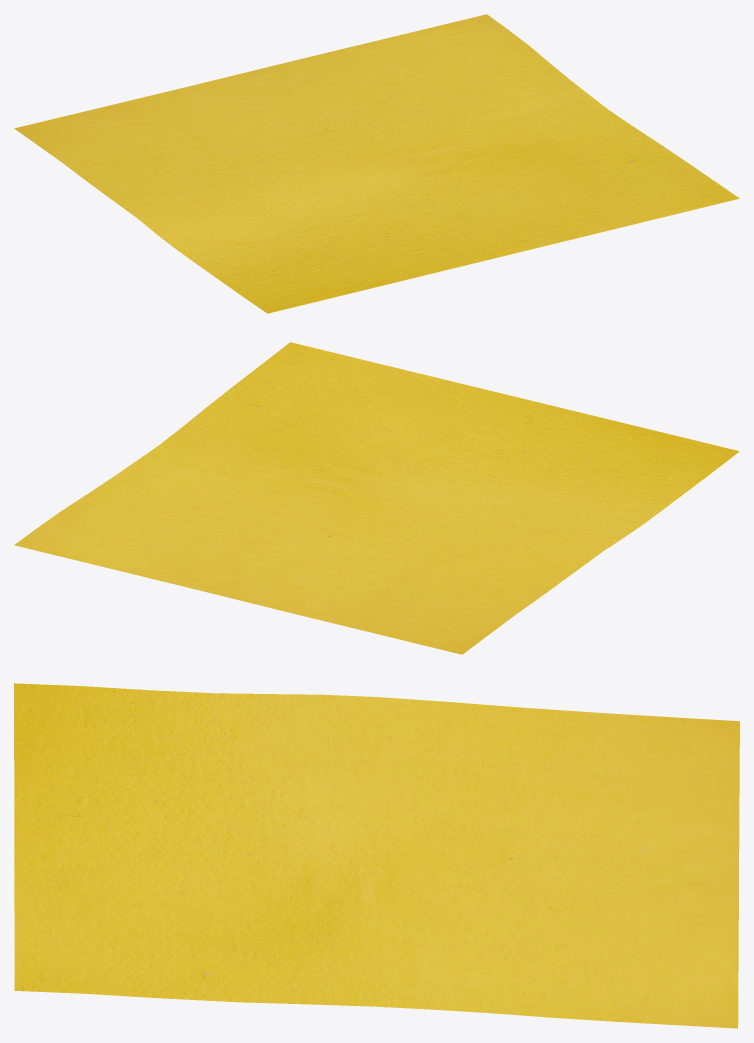
The model's file is postit_scale.fbx.
3 views of the same model, one above another, from view 1: azimuth 30°, elevation 25°; view 2: azimuth 150°, elevation 25°; view 3: azimuth 270°, elevation 25° (orthographic). The views are drawn at different scales.
Visible parts, largest first — view 1: single curved; view 2: single curved; view 3: single curved.
Part boxes in pixels (x1,y1,x2,y2): single curved: (14, 14, 739, 313); single curved: (14, 342, 739, 654); single curved: (14, 683, 739, 1028).
Size of the model in its own units: 2081 by 79.1 by 2001.
